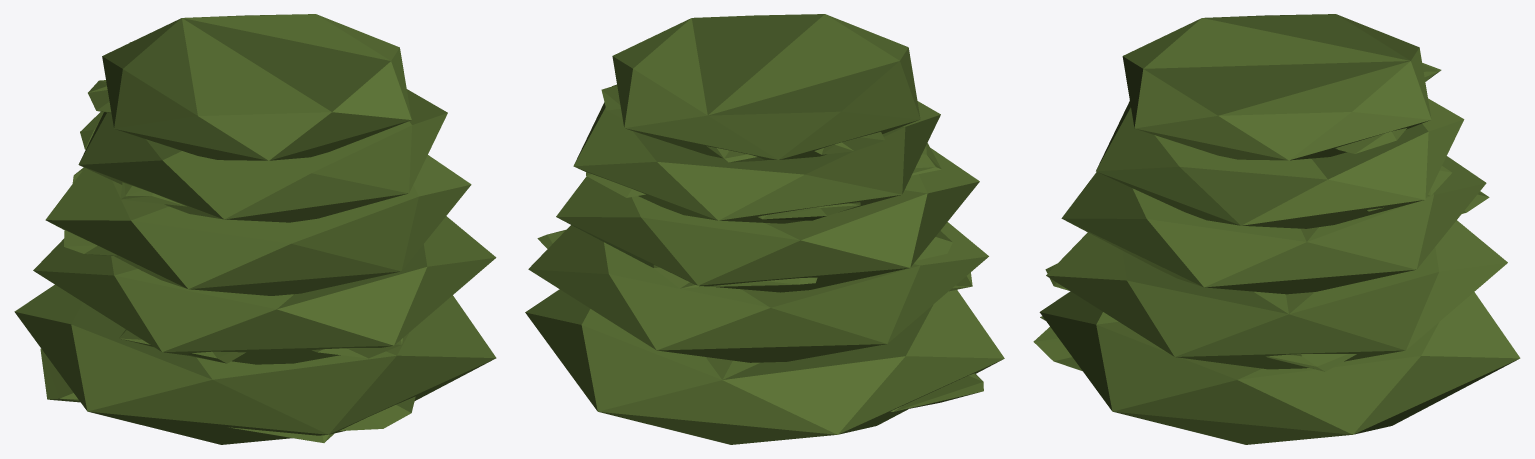
The model's file is Leaves_B.glb.
The picture shows the model from 3 angles, left to right: view 1: azimuth 30°, elevation 25°; view 2: azimuth 150°, elevation 25°; view 3: azimuth 270°, elevation 25°; orthographic projection.
Visible parts, largest first — view 1: Leaves; view 2: Leaves; view 3: Leaves.
Part boxes in pixels (x1,y1,x2,y2): Leaves: (14, 14, 496, 444); Leaves: (525, 14, 1004, 444); Leaves: (1033, 14, 1520, 444).
Bounding box in the file's own units: 16.19 × 11.7 × 16.29.
